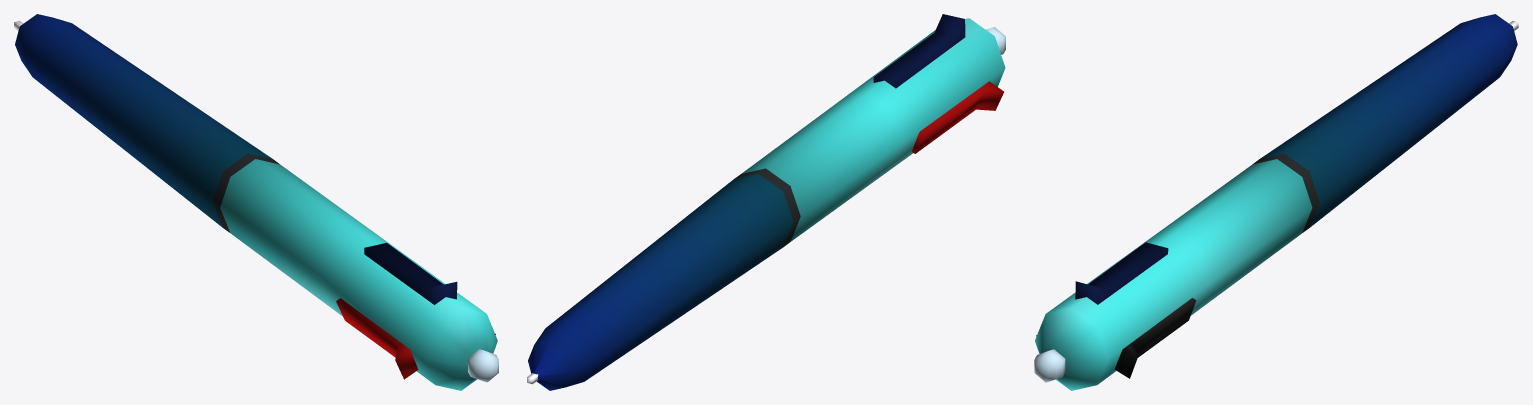
The model's file is CanetaQuatroCores.fbx.
3 renders of one model, left to right at view 1: azimuth 30°, elevation 25°; view 2: azimuth 150°, elevation 25°; view 3: azimuth 330°, elevation 25°, orthographic.
Parts seen in each view (by area): view 1: CanetaQuatroCores; view 2: CanetaQuatroCores; view 3: CanetaQuatroCores.
Boxes of the visible parts, <box> form: CanetaQuatroCores: <box>14,14,498,390</box>; CanetaQuatroCores: <box>527,14,1005,390</box>; CanetaQuatroCores: <box>1034,14,1518,390</box>.
Size of the model in its own units: 1.93 by 1.74 by 15.74.
